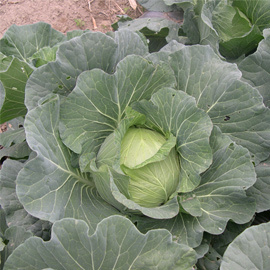cabbage: (14, 29, 269, 248)
